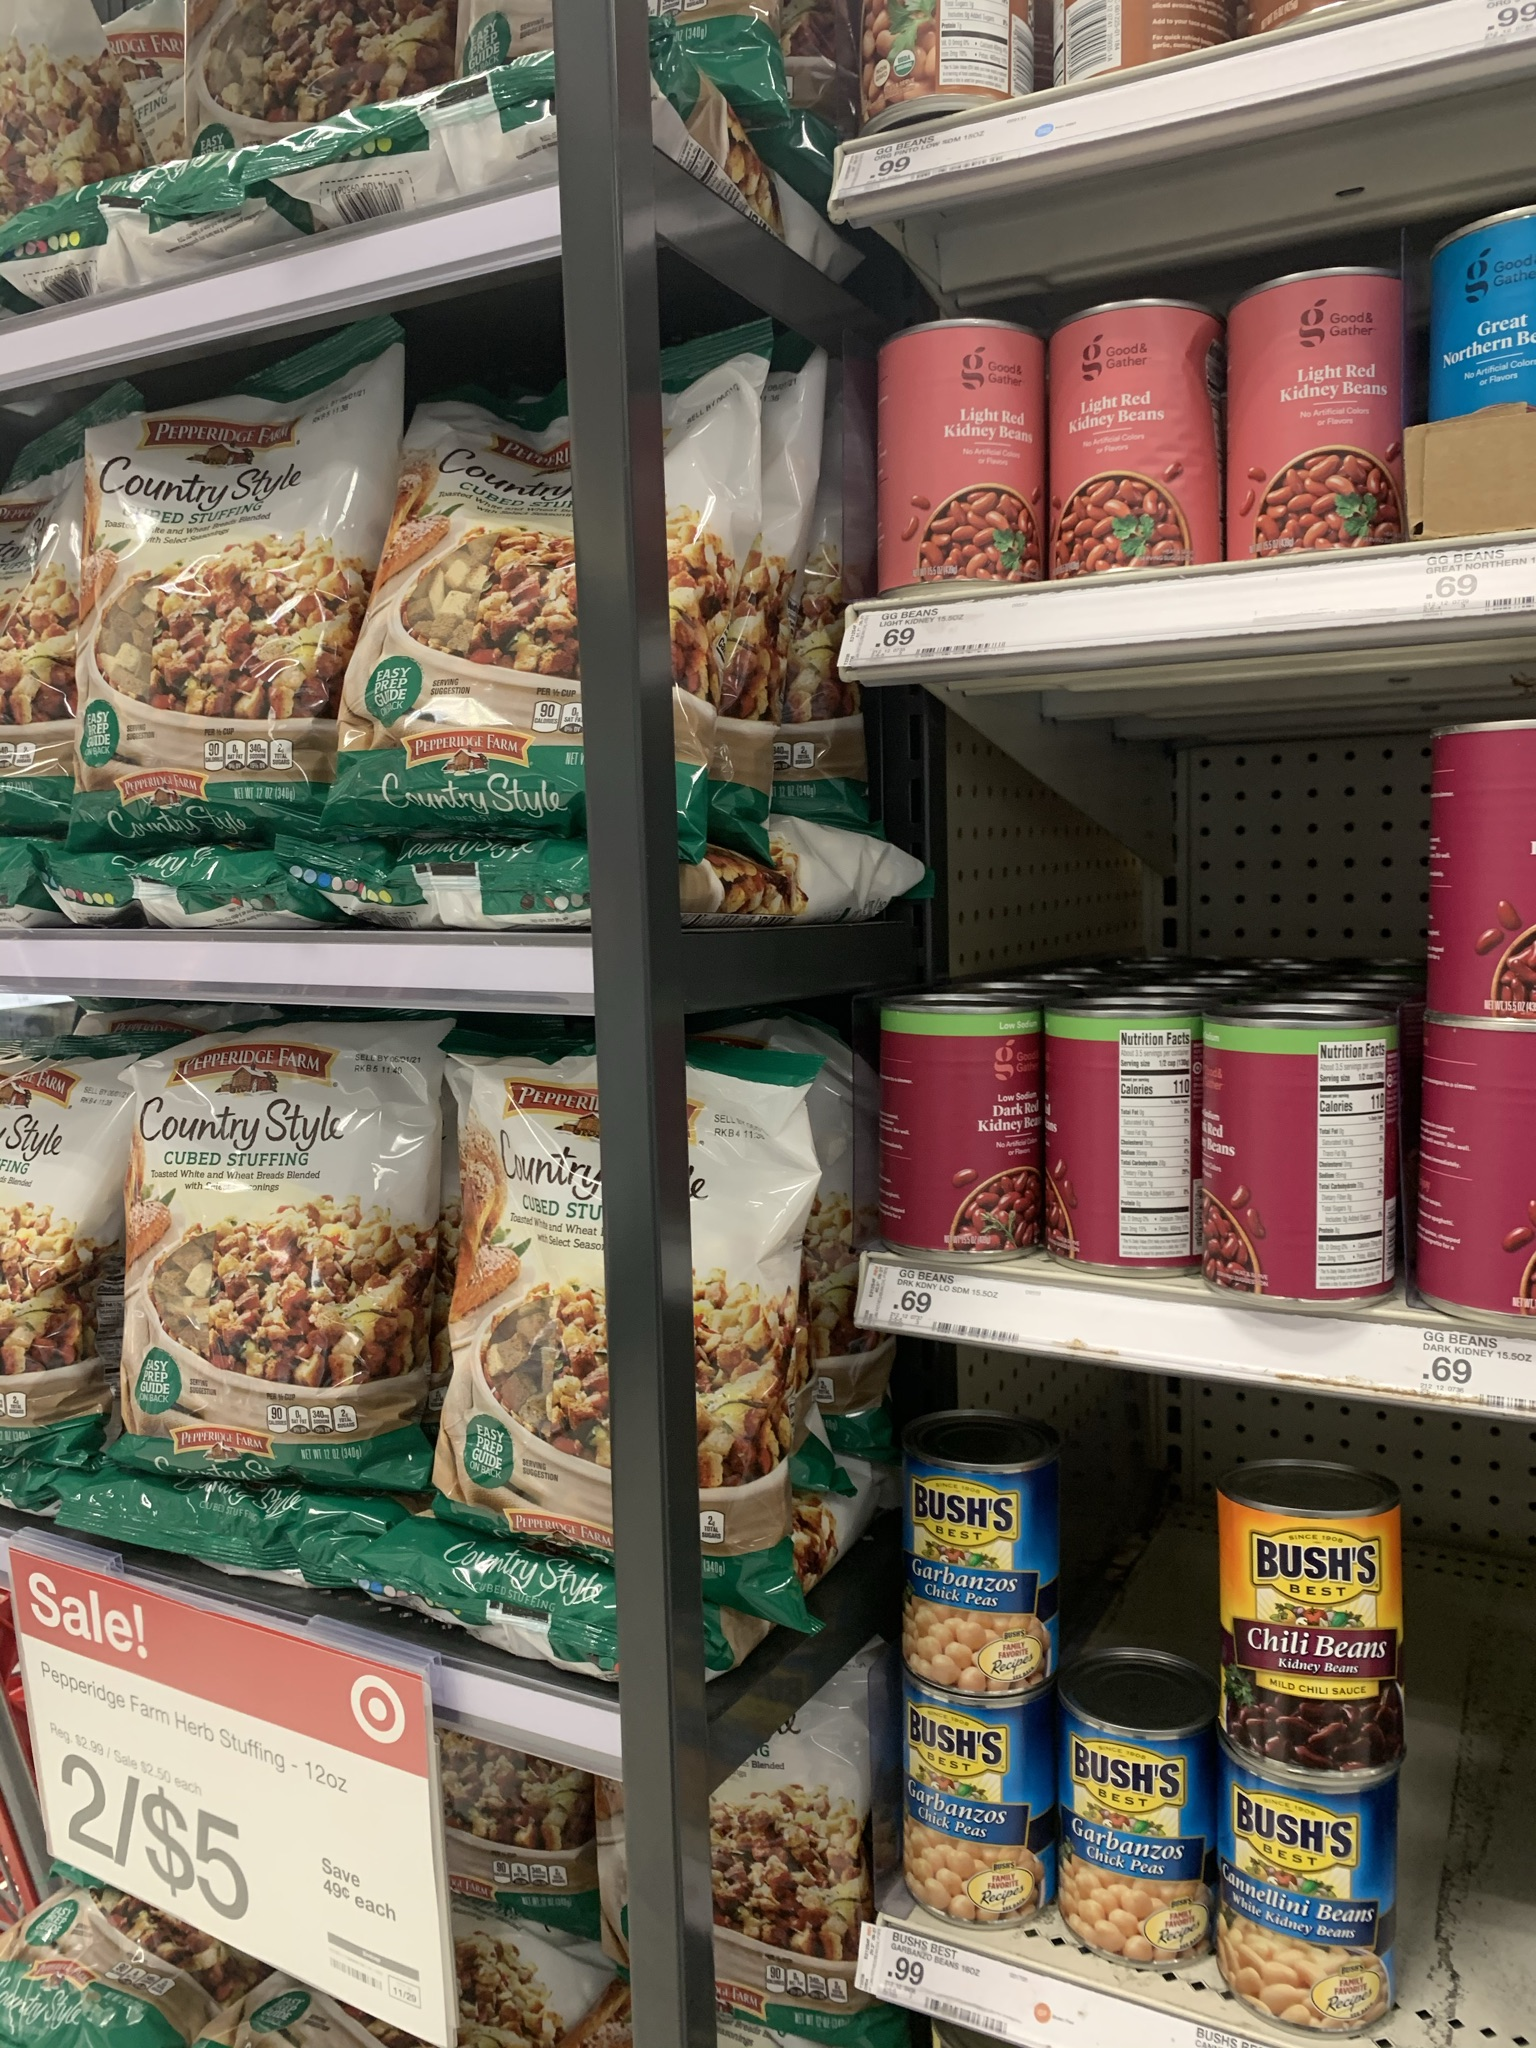can: (1207, 1026, 1397, 1300), (1226, 1498, 1405, 1761), (1239, 297, 1394, 552), (1226, 1784, 1392, 2017), (1055, 327, 1207, 569), (1071, 1692, 1207, 1958), (884, 1013, 1026, 1259), (1052, 1014, 1186, 1276), (886, 335, 1025, 584), (1428, 1035, 1536, 1321), (908, 1705, 1052, 1917), (912, 1461, 1046, 1680), (1434, 735, 1536, 1013)
